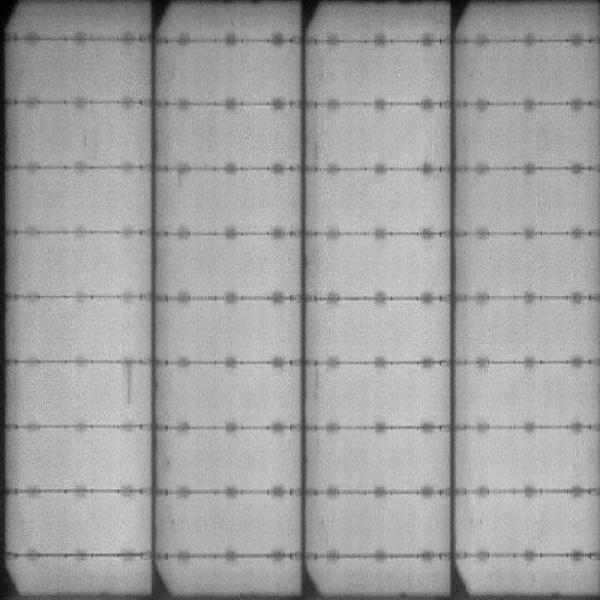scratch: (121, 363, 137, 408)
